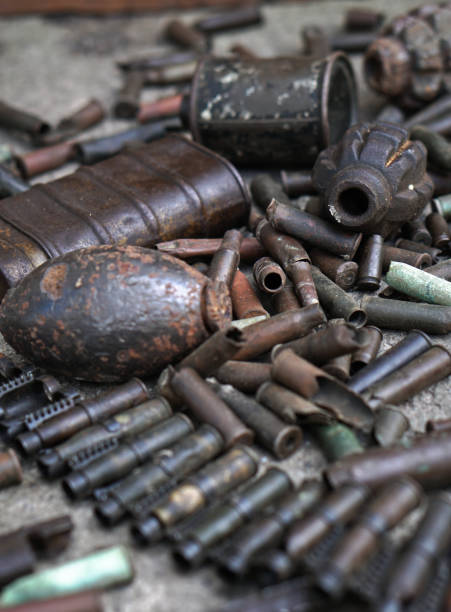e1: (4, 244, 232, 368), (313, 118, 437, 231)
